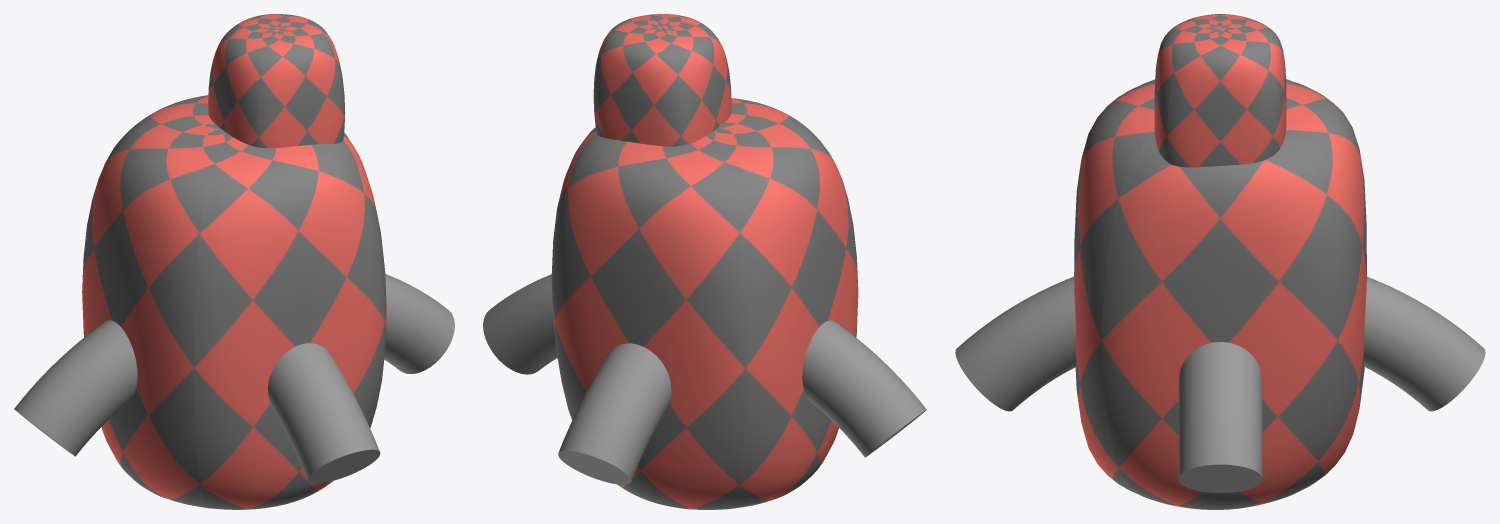
The model's file is Body(Oblong)+Colour(More_Red)+Pattern(Diamond)+Arm_Angle(Bent_Down)+Hat(Oblong).fbx.
3 views of the same model, side by side, from view 1: azimuth 30°, elevation 25°; view 2: azimuth 150°, elevation 25°; view 3: azimuth 270°, elevation 25° (orthographic). The views are drawn at different scales.
Visible parts, largest first — view 1: Body(Oblong)+Colour(More_Red)+Pattern(Diamond)+Arm_Angle(Ben (×5); view 2: Body(Oblong)+Colour(More_Red)+Pattern(Diamond)+Arm_Angle(Ben (×5); view 3: Body(Oblong)+Colour(More_Red)+Pattern(Diamond)+Arm_Angle(Ben (×5).
Boxes of the visible parts, x1=… form: Body(Oblong)+Colour(More_Red)+Pattern(Diamond)+Arm_Angle(Ben (×5): x1=14, y1=14, x2=454, y2=509; Body(Oblong)+Colour(More_Red)+Pattern(Diamond)+Arm_Angle(Ben (×5): x1=483, y1=14, x2=926, y2=509; Body(Oblong)+Colour(More_Red)+Pattern(Diamond)+Arm_Angle(Ben (×5): x1=955, y1=14, x2=1485, y2=509.
Bounding box in the file's own units: 50.67 × 50 × 50.67.
Materials: 2 (1 with a texture image).
